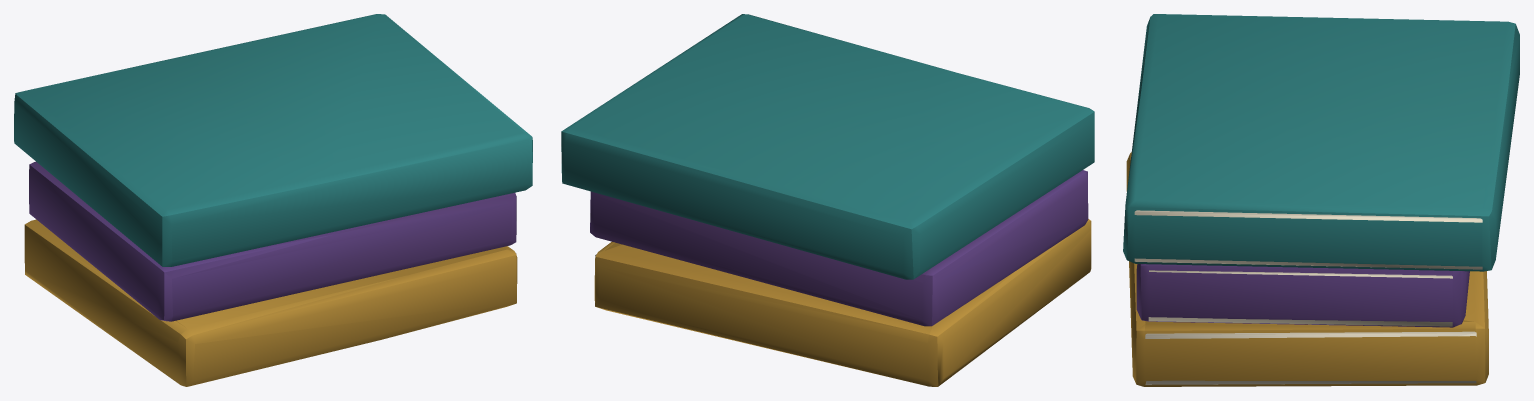
The model's file is den_book_stack_lod2.glb.
3 views of the same model, side by side, from view 1: azimuth 30°, elevation 25°; view 2: azimuth 150°, elevation 25°; view 3: azimuth 270°, elevation 25° (orthographic). The views are drawn at different scales.
Visible parts, largest first — view 1: den_book_stack.001; view 2: den_book_stack.001; view 3: den_book_stack.001.
Boxes of the visible parts, bbox=[...] form: den_book_stack.001: bbox=[14, 14, 532, 386]; den_book_stack.001: bbox=[561, 14, 1094, 386]; den_book_stack.001: bbox=[1123, 14, 1519, 386].
Size of the model in its own units: 10.2 by 4.5 by 8.35.
